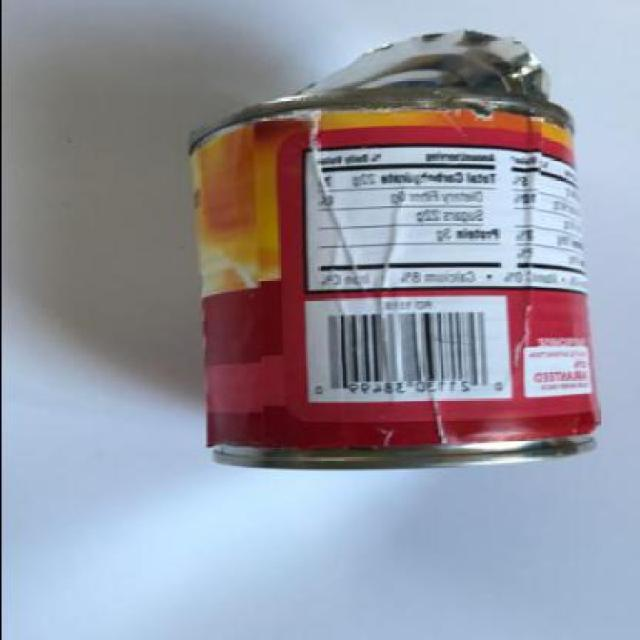METAL: (181, 89, 597, 468), (282, 28, 546, 104)
